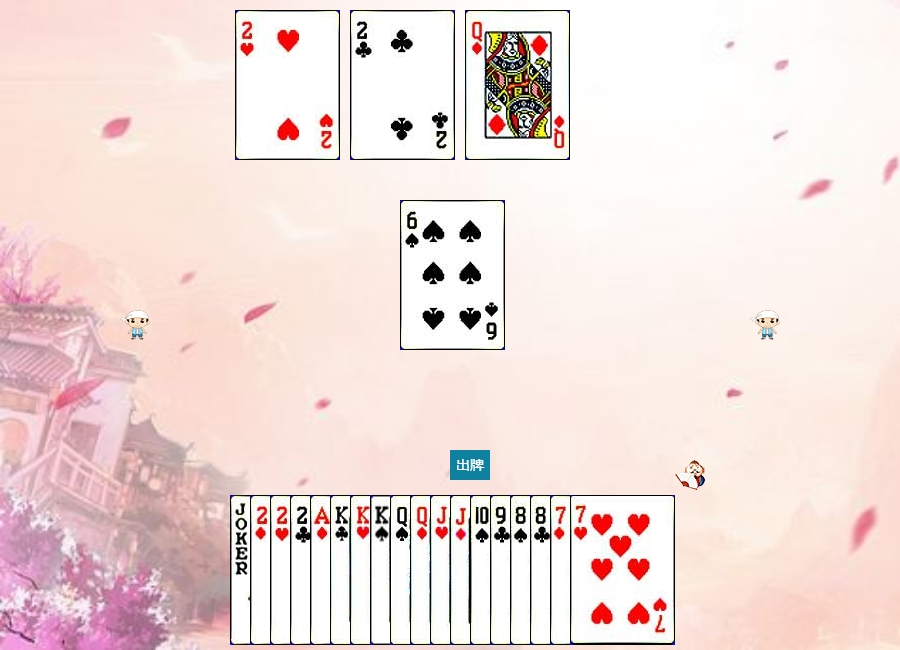10~4: (470, 495, 575, 645)
11~1: (450, 495, 555, 645)
11~3: (430, 495, 535, 645)
12~1: (465, 10, 570, 160), (410, 495, 515, 645)
12~4: (390, 495, 495, 645)
13~2: (330, 495, 435, 645)
13~3: (350, 495, 455, 645)
13~4: (370, 495, 475, 645)
14~1: (310, 495, 415, 645)
15~1: (250, 495, 355, 645)
15~2: (350, 10, 455, 160), (290, 495, 395, 645)
15~3: (235, 10, 340, 160), (270, 495, 375, 645)
17~3: (230, 495, 335, 645)
6~4: (400, 200, 505, 350)
7~1: (550, 495, 655, 645)
7~3: (570, 495, 675, 645)
8~2: (530, 495, 635, 645)
8~4: (510, 495, 615, 645)
9~2: (490, 495, 595, 645)
